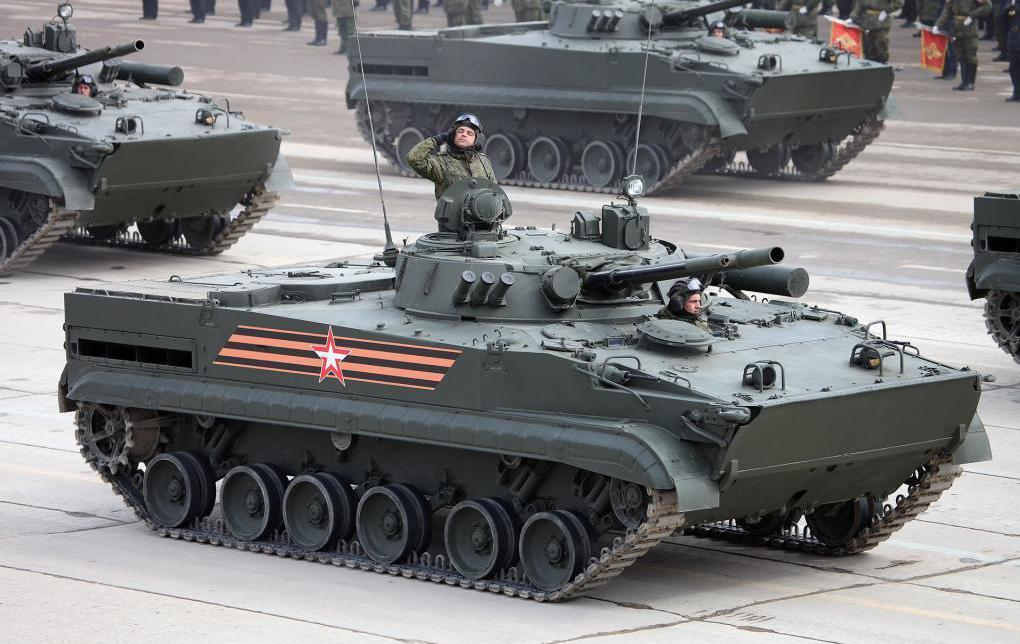tank: (62, 173, 998, 605), (333, 1, 902, 214), (1, 12, 295, 283)
